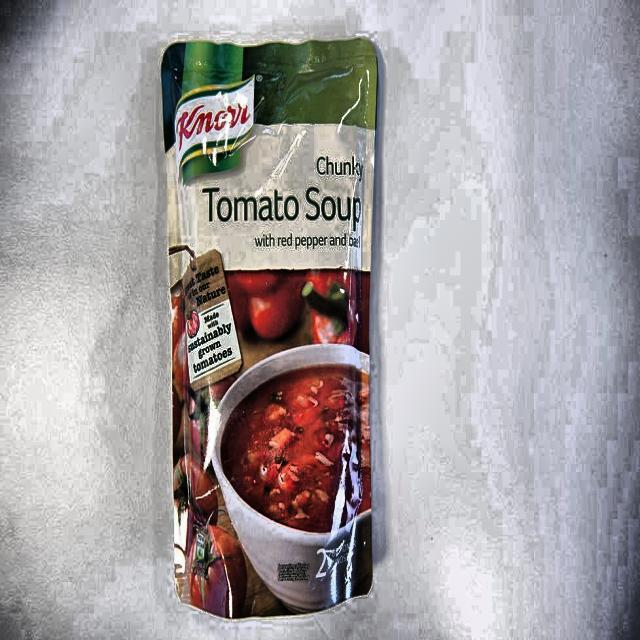cardboard: (160, 37, 379, 618)
